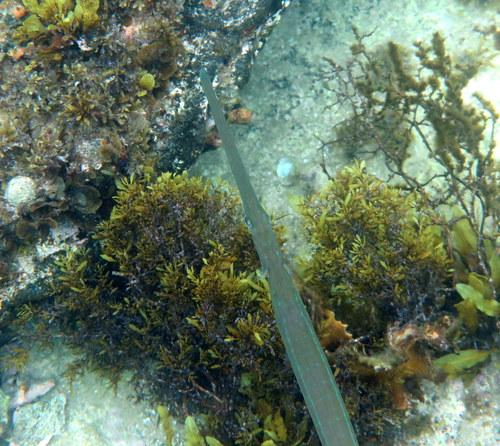Fistularia commersonii: (177, 67, 439, 446)
